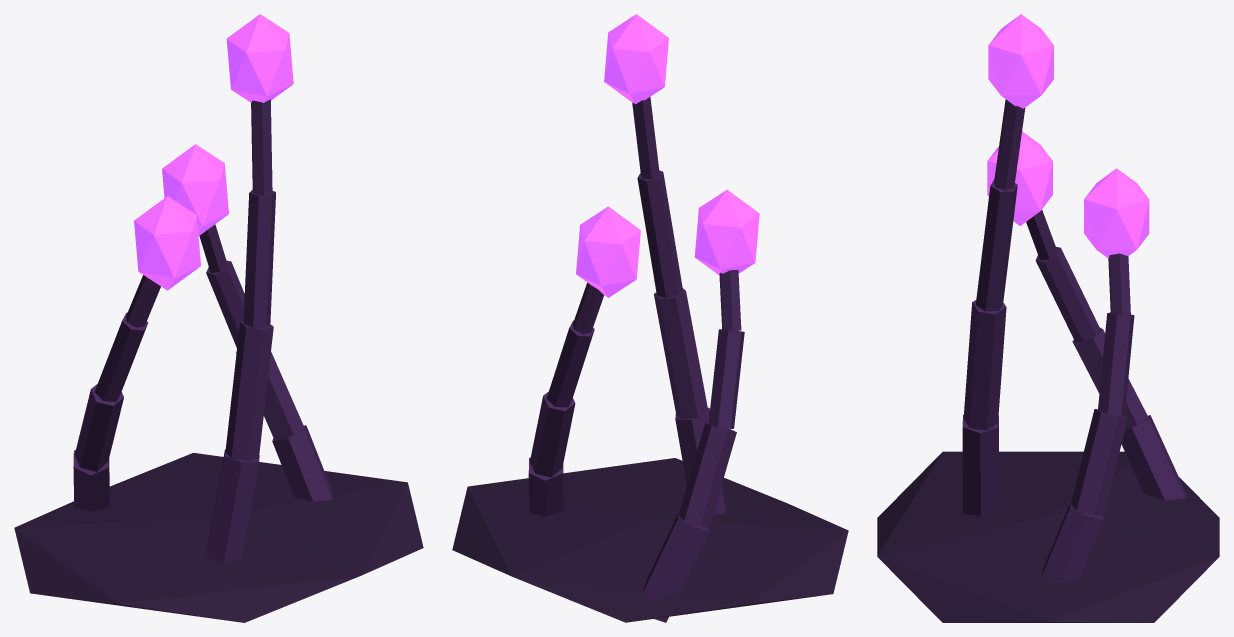
File: mire_tendril_c.glb
3 views of the same model, side by side, from view 1: azimuth 30°, elevation 25°; view 2: azimuth 150°, elevation 25°; view 3: azimuth 270°, elevation 25° (orthographic). The views are drawn at different scales.
Parts seen in each view (by area): view 1: Mire_Base.008, Bud_2.002, Tendril_3_2.002, Bud_3.002, Bud_1.002, Tendril_3_1.002, Tendril_3_3.002, Tendril_1_1.002, Tendril_2_2.002, Tendril_2_3.002, Tendril_3_4.002, Tendril_1_2.002 (+4 smaller); view 2: Mire_Base.008, Bud_1.002, Bud_3.002, Bud_2.002, Tendril_3_2.002, Tendril_2_2.002, Tendril_3_3.002, Tendril_2_1.002, Tendril_2_3.002, Tendril_1_2.002, Tendril_1_3.002, Tendril_3_4.002 (+4 smaller); view 3: Mire_Base.008, Bud_3.002, Bud_1.002, Tendril_3_2.002, Tendril_1_2.002, Tendril_3_3.002, Tendril_3_1.002, Tendril_2_1.002, Bud_2.002, Tendril_1_1.002, Tendril_1_3.002, Tendril_2_3.002 (+4 smaller).
Part boxes in pixels (left/top/right/bottom): Mire_Base.008: left=14, top=453, right=423, bottom=622; Bud_2.002: left=134, top=196, right=200, bottom=290; Tendril_3_2.002: left=225, top=321, right=273, bottom=460; Bud_3.002: left=226, top=14, right=293, bottom=102; Bud_1.002: left=162, top=144, right=228, bottom=235; Tendril_3_1.002: left=206, top=449, right=259, bottom=563; Tendril_3_3.002: left=243, top=190, right=275, bottom=327; Tendril_1_1.002: left=272, top=425, right=332, bottom=501; Tendril_2_2.002: left=74, top=384, right=123, bottom=471; Tendril_2_3.002: left=94, top=312, right=148, bottom=401; Tendril_3_4.002: left=251, top=99, right=272, bottom=195; Tendril_1_2.002: left=236, top=352, right=304, bottom=439; Mire_Base.008: left=452, top=458, right=848, bottom=622; Bud_1.002: left=576, top=206, right=640, bottom=297; Bud_3.002: left=604, top=14, right=668, bottom=104; Bud_2.002: left=694, top=189, right=759, bottom=275; Tendril_3_2.002: left=654, top=288, right=708, bottom=419; Tendril_2_2.002: left=678, top=423, right=736, bottom=527; Tendril_3_3.002: left=637, top=170, right=682, bottom=297; Tendril_2_1.002: left=642, top=514, right=709, bottom=622; Tendril_2_3.002: left=708, top=329, right=744, bottom=428; Tendril_1_2.002: left=530, top=391, right=575, bottom=477; Tendril_1_3.002: left=546, top=320, right=594, bottom=407; Tendril_3_4.002: left=632, top=97, right=659, bottom=179; Mire_Base.008: left=877, top=451, right=1219, bottom=622; Bud_3.002: left=988, top=14, right=1053, bottom=108; Bud_1.002: left=1084, top=168, right=1149, bottom=258; Tendril_3_2.002: left=963, top=300, right=1006, bottom=430; Tendril_1_2.002: left=1070, top=409, right=1127, bottom=515; Tendril_3_3.002: left=975, top=179, right=1017, bottom=311; Tendril_3_1.002: left=962, top=414, right=999, bottom=516; Tendril_2_1.002: left=1121, top=415, right=1186, bottom=500; Bud_2.002: left=987, top=131, right=1052, bottom=225; Tendril_1_1.002: left=1041, top=502, right=1103, bottom=582; Tendril_1_3.002: left=1098, top=312, right=1134, bottom=415; Tendril_2_3.002: left=1035, top=247, right=1100, bottom=341.
Bounding box in the file's own units: 1.5 × 2.09 × 1.16.
